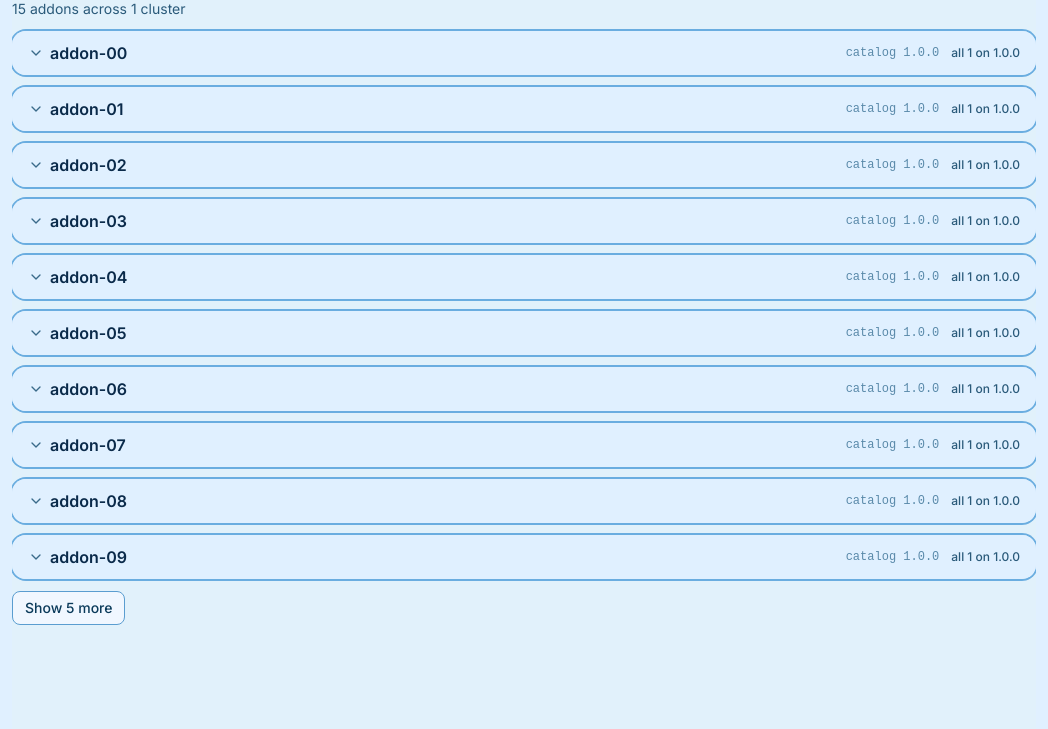
Test: AddonVersionList — paging › addon list pages by 10 with a "Show more" button
Check: the text "addon-00" is shown, box [50,41,127,65]
Check: the text "addon-10" is not shown
Click the button "Show 5 more" at (69, 608), box [12,591,126,625]
(page scrolled)
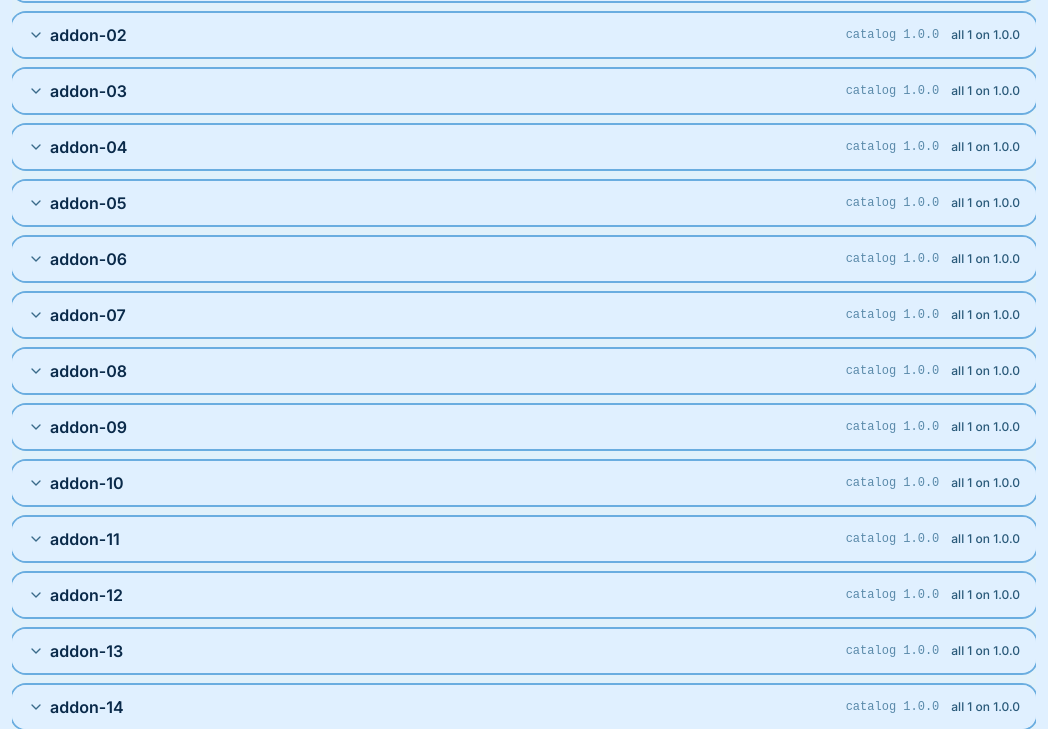
Check: the text "addon-10" is shown, box [50,471,124,495]
Check: the text "addon-14" is shown, box [50,695,124,719]
Check: the button "Show 5 more" is gone
